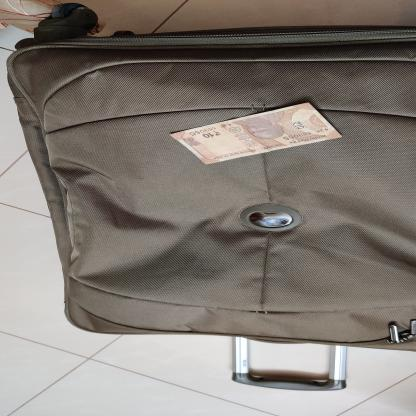New10Front: (165, 100, 345, 166)
